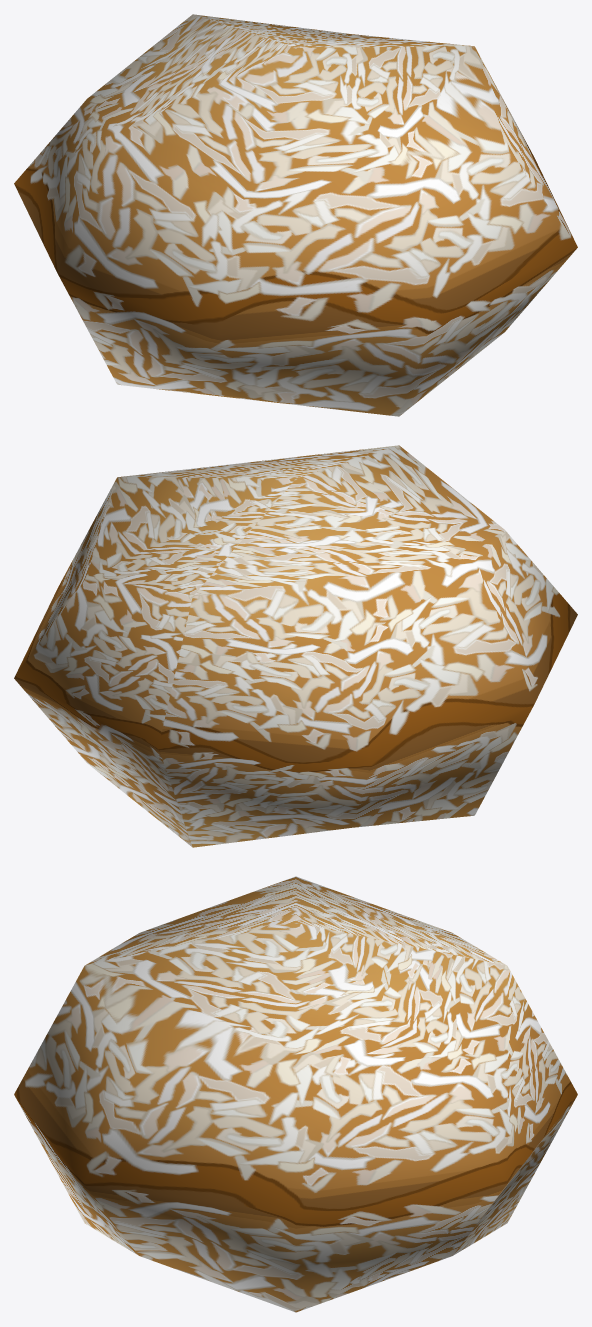
File: Bomba.fbx
3 views of the same model, one above another, from view 1: azimuth 30°, elevation 25°; view 2: azimuth 150°, elevation 25°; view 3: azimuth 270°, elevation 25° (orthographic). The views are drawn at different scales.
Parts seen in each view (by area): view 1: pCube6; view 2: pCube6; view 3: pCube6.
Part boxes in pixels (x1=…): pCube6: x1=14, y1=14, x2=577, y2=416; pCube6: x1=14, y1=445, x2=577, y2=847; pCube6: x1=14, y1=876, x2=577, y2=1312.
Size of the model in its own units: 17.06 by 11.45 by 17.06.
Materials: 1 (1 with a texture image).
